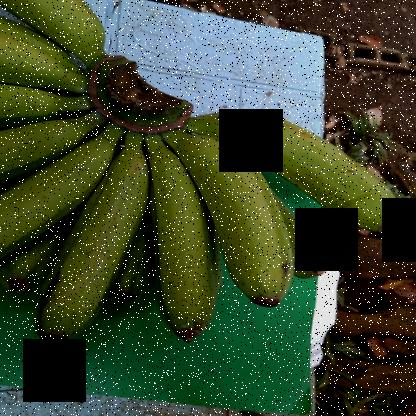freshunripe: (211, 100, 411, 238), (164, 127, 296, 316), (0, 118, 137, 257), (140, 138, 228, 342), (0, 0, 127, 60), (0, 108, 105, 178), (0, 34, 89, 95), (0, 74, 80, 124)
unripe: (23, 144, 147, 352)
